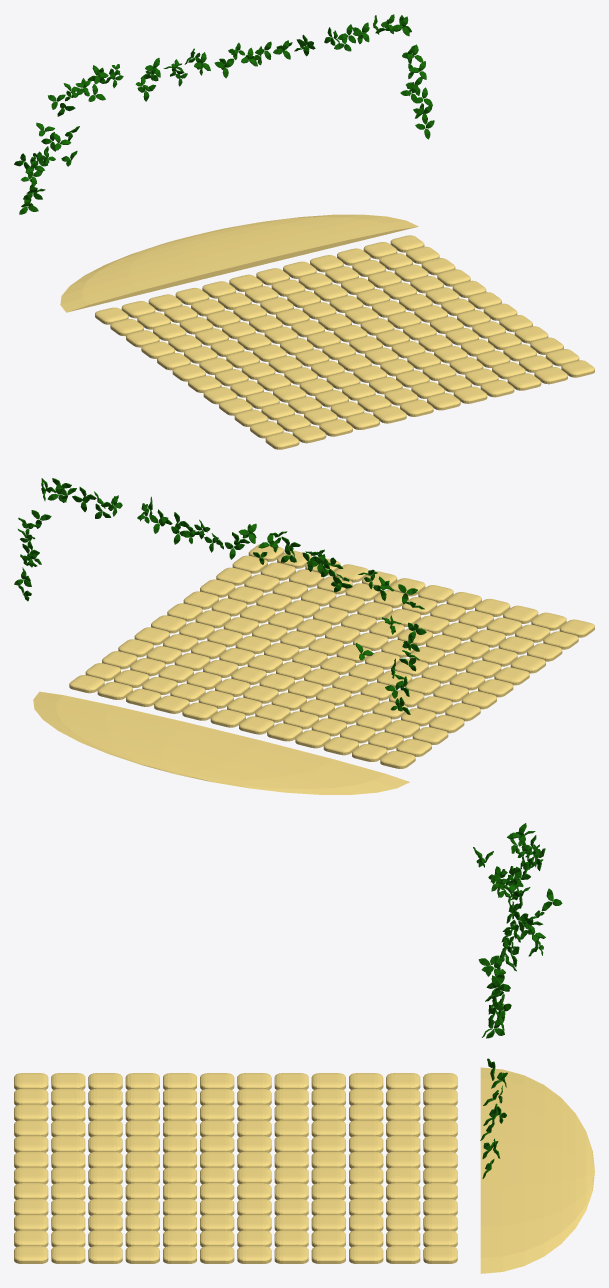
Rendered from fieldSummer.glb.
The picture shows the model from 3 angles, top to bottom: view 1: azimuth 30°, elevation 25°; view 2: azimuth 150°, elevation 25°; view 3: azimuth 270°, elevation 25°; orthographic projection. The views are drawn at different scales.
Visible parts, largest first — view 1: palyfield, sand; view 2: palyfield, sand; view 3: palyfield, sand.
Boxes of the visible parts, bbox=[...] form: palyfield: bbox=[95, 235, 594, 449]; sand: bbox=[60, 214, 418, 312]; palyfield: bbox=[69, 544, 594, 768]; sand: bbox=[33, 691, 409, 794]; palyfield: bbox=[14, 1073, 457, 1263]; sand: bbox=[480, 1067, 594, 1273].
Size of the model in its own units: 14.73 by 7.82 by 15.62.
